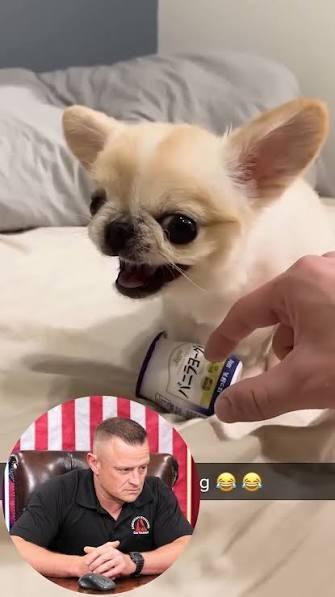adult_dog: (60, 95, 335, 421)
non-dog: (8, 416, 194, 581)
